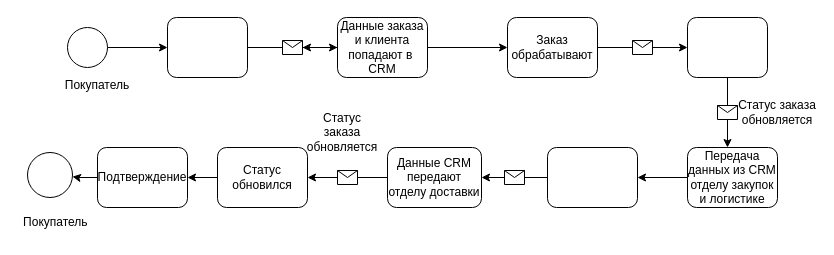
The diagram is 834 pixels wide and 255 high, and some of its shapes have lost their labels. The shapes that lost their labels are listed below. From the top down, each one's centre as x and y in pixels, then its label:
(x=207, y=47): Оформление заказа
(x=727, y=47): Заказ подтверждают
(x=592, y=177): Прием обновленного статуса магазином
